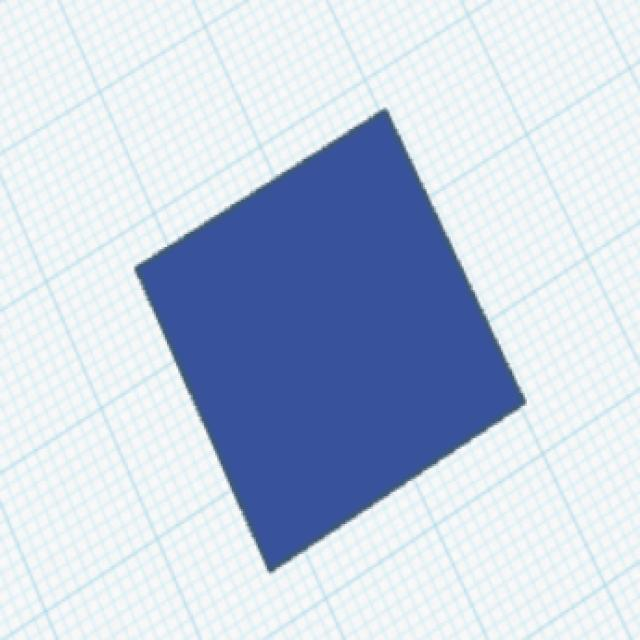cube: (131, 103, 532, 577)
